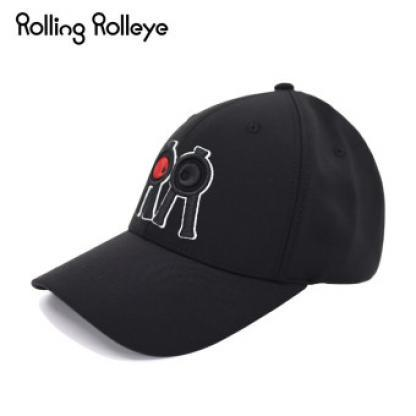cap: (20, 78, 390, 358)
